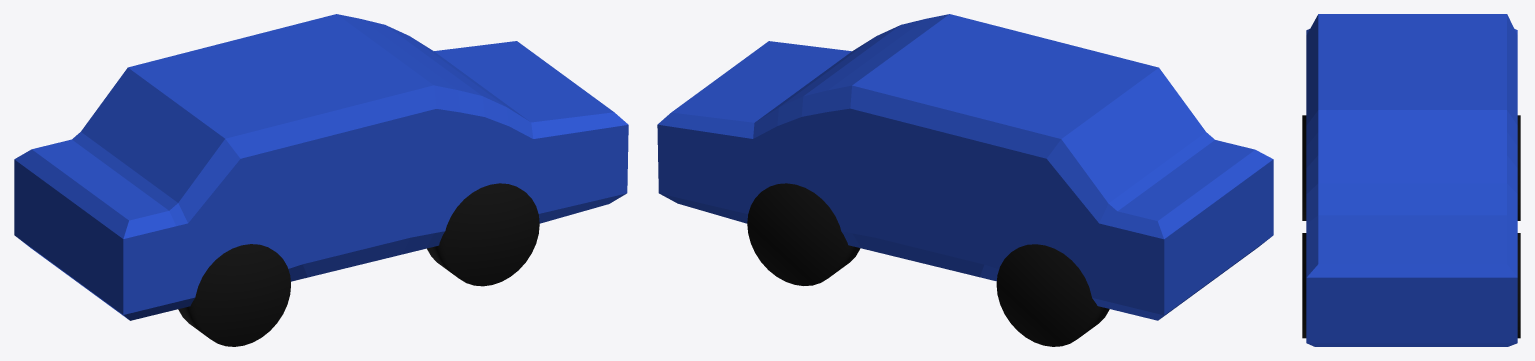
The model's file is car.fbx.
The picture shows the model from 3 angles, left to right: view 1: azimuth 30°, elevation 25°; view 2: azimuth 150°, elevation 25°; view 3: azimuth 270°, elevation 25°; orthographic projection. The views are drawn at different scales.
Visible parts, largest first — view 1: car; view 2: car; view 3: car.
Boxes of the visible parts, bbox=[...] form: car: bbox=[14, 14, 628, 346]; car: bbox=[657, 14, 1273, 346]; car: bbox=[1302, 14, 1520, 346].
Size of the model in its own units: 1070 by 417 by 413.
